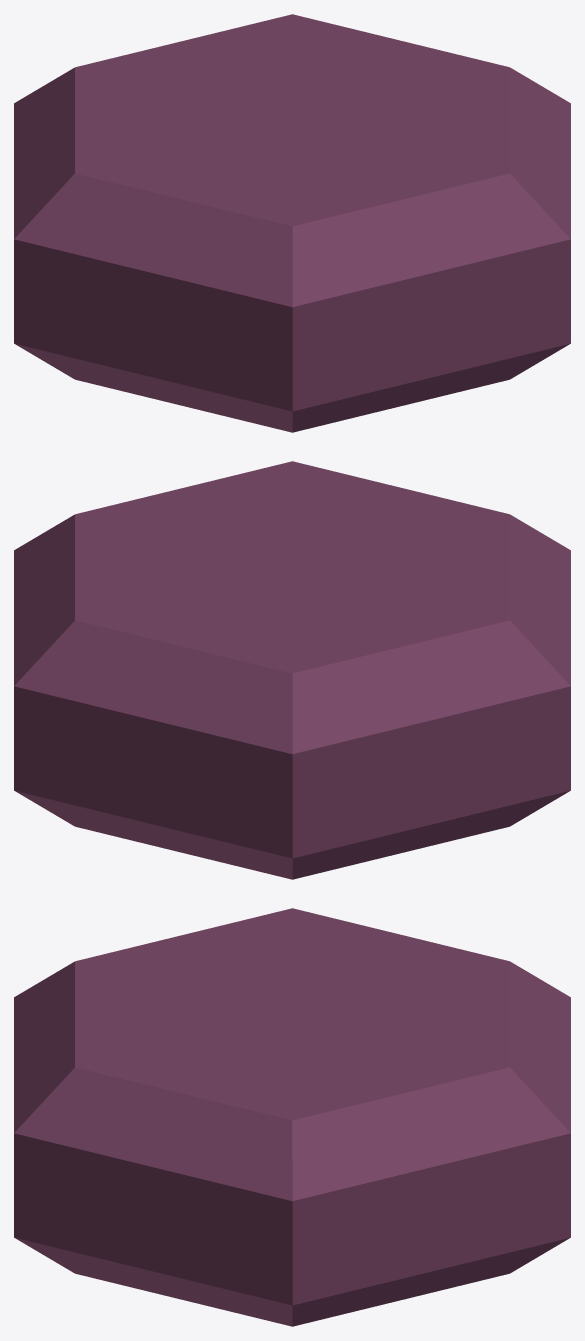
File: treasure_chest_gem_D.fbx
The picture shows the model from 3 angles, top to bottom: view 1: azimuth 30°, elevation 25°; view 2: azimuth 150°, elevation 25°; view 3: azimuth 270°, elevation 25°; orthographic projection.
Visible parts, largest first — view 1: treasure_chest_gem_D; view 2: treasure_chest_gem_D; view 3: treasure_chest_gem_D.
Boxes of the visible parts, box(x1,y1,x2,y2) form: treasure_chest_gem_D: box(14, 14, 570, 432); treasure_chest_gem_D: box(14, 461, 570, 879); treasure_chest_gem_D: box(14, 908, 570, 1326).
Size of the model in its own units: 9.91 by 3.51 by 8.58.
